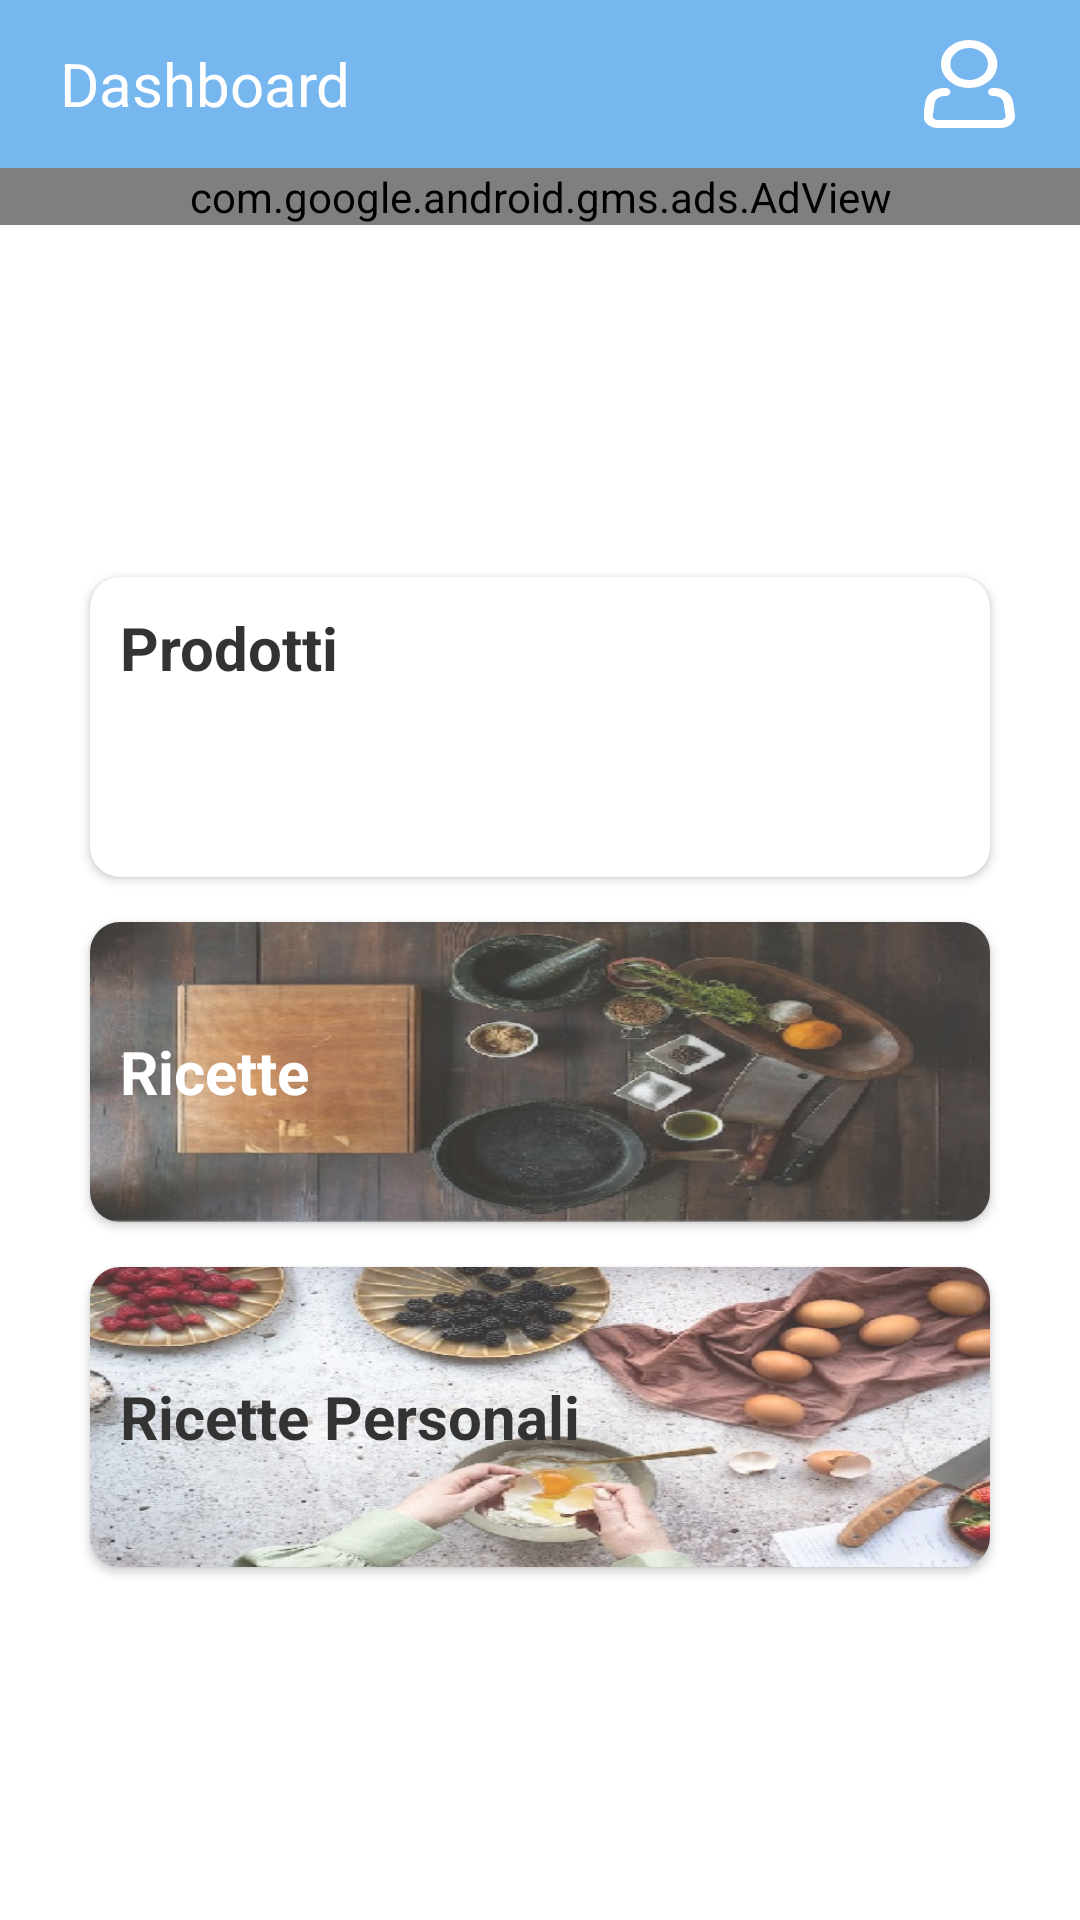

Icons on this 1080w x 1920h Android screen, each with the point to tap as point (x, y):
profile: point (969, 84)
